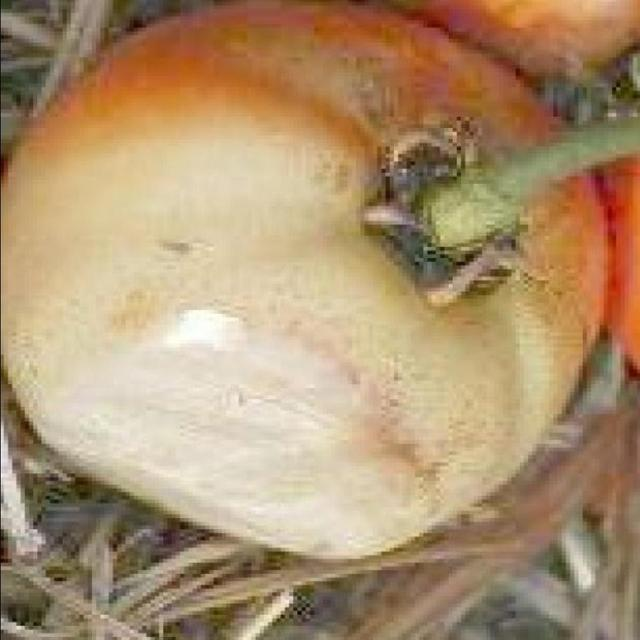Sunscald Fruit: (15, 204, 306, 373)
